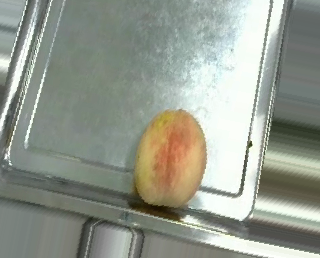Peach: (132, 107, 207, 208)
